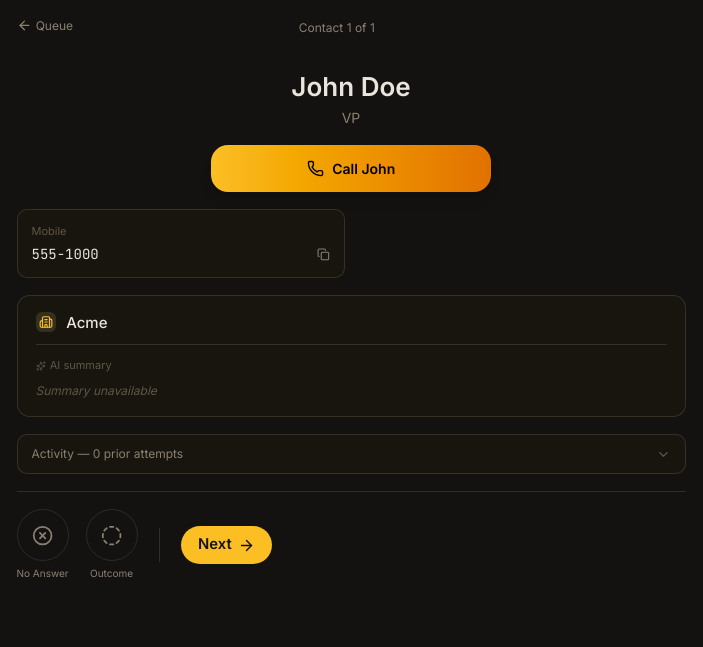
ProfileViewCard — draft disposition flow › advances the "Contact X of Y" counter when No Answer is clicked
Check: the text "Contact 1 of 1" is shown, box left=299, top=16, right=375, bottom=37
Click the button titled "Mark as No Answer — no outcome required" at [42, 535], box left=16, top=509, right=68, bottom=561
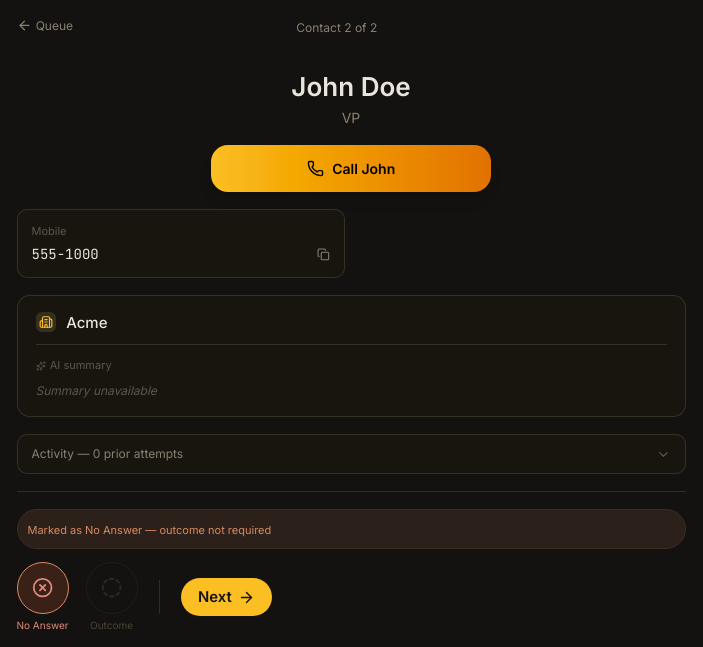
Check: the text "Contact 2 of 2" is shown, box left=296, top=16, right=377, bottom=37
